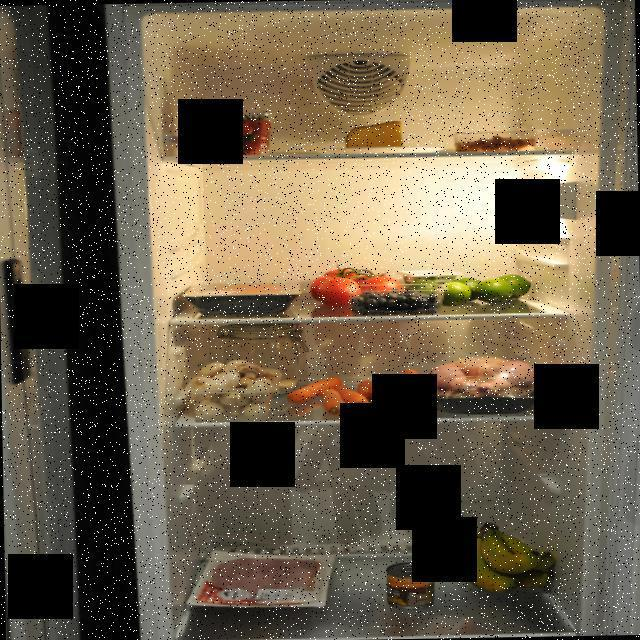banana: (452, 520, 560, 600)
beef: (184, 279, 308, 316)
blueberries: (346, 288, 444, 316)
carrot: (284, 368, 428, 416)
cheese: (344, 118, 408, 152)
chicken: (424, 354, 551, 414)
corn: (382, 559, 438, 611)
flour: (208, 324, 318, 396)
goat_cheese: (396, 269, 463, 291)
ham: (210, 553, 327, 612)
lime: (402, 272, 532, 308)
mushrooms: (184, 358, 297, 424)
shrimp: (456, 136, 536, 152)
strawberries: (184, 102, 271, 159)
tomato: (307, 258, 403, 308)
